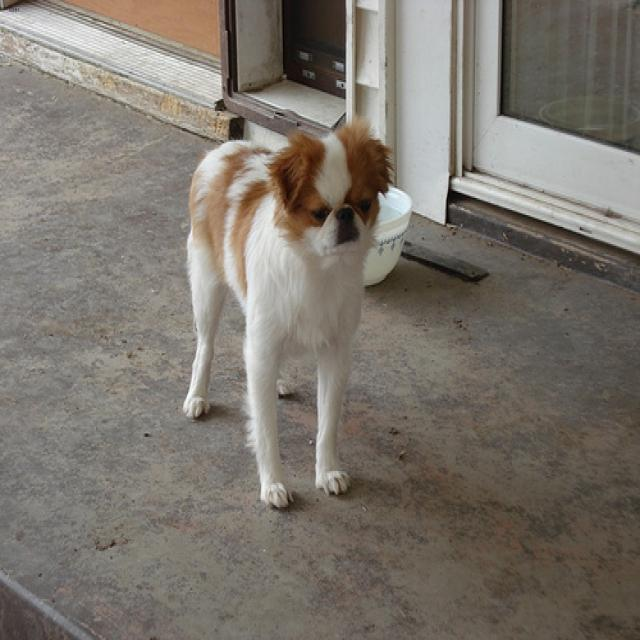dog-japanese_chin: (173, 113, 398, 524)
